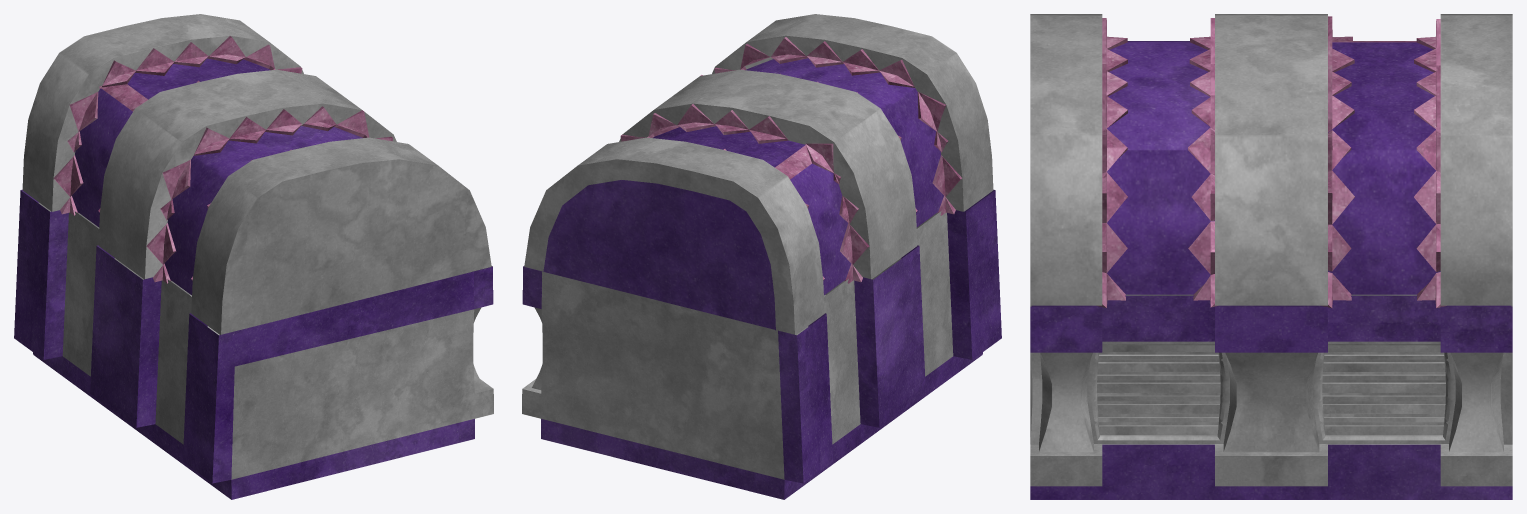
Rendered from Chest4.fbx.
3 views of the same model, side by side, from view 1: azimuth 30°, elevation 25°; view 2: azimuth 150°, elevation 25°; view 3: azimuth 270°, elevation 25° (orthographic). The views are drawn at different scales.
Parts seen in each view (by area): view 1: SmallChestLid, SmallChest; view 2: SmallChestLid, SmallChest; view 3: SmallChestLid, SmallChest.
Boxes of the visible parts, x1,y1,x2,y2 form: SmallChestLid: [22, 14, 491, 334]; SmallChest: [14, 189, 493, 499]; SmallChestLid: [524, 14, 993, 334]; SmallChest: [522, 189, 1001, 499]; SmallChestLid: [1030, 14, 1512, 308]; SmallChest: [1030, 294, 1512, 499].
Size of the model in its own units: 132 by 137 by 161.
